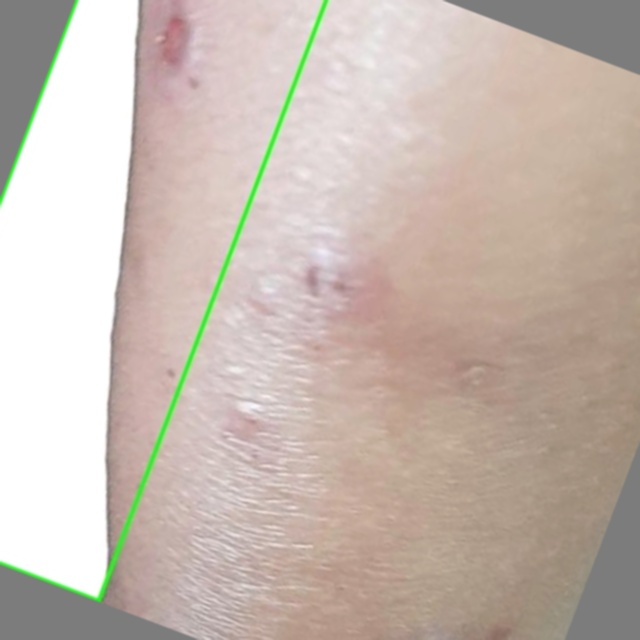Eczema: (0, 0, 325, 600)
